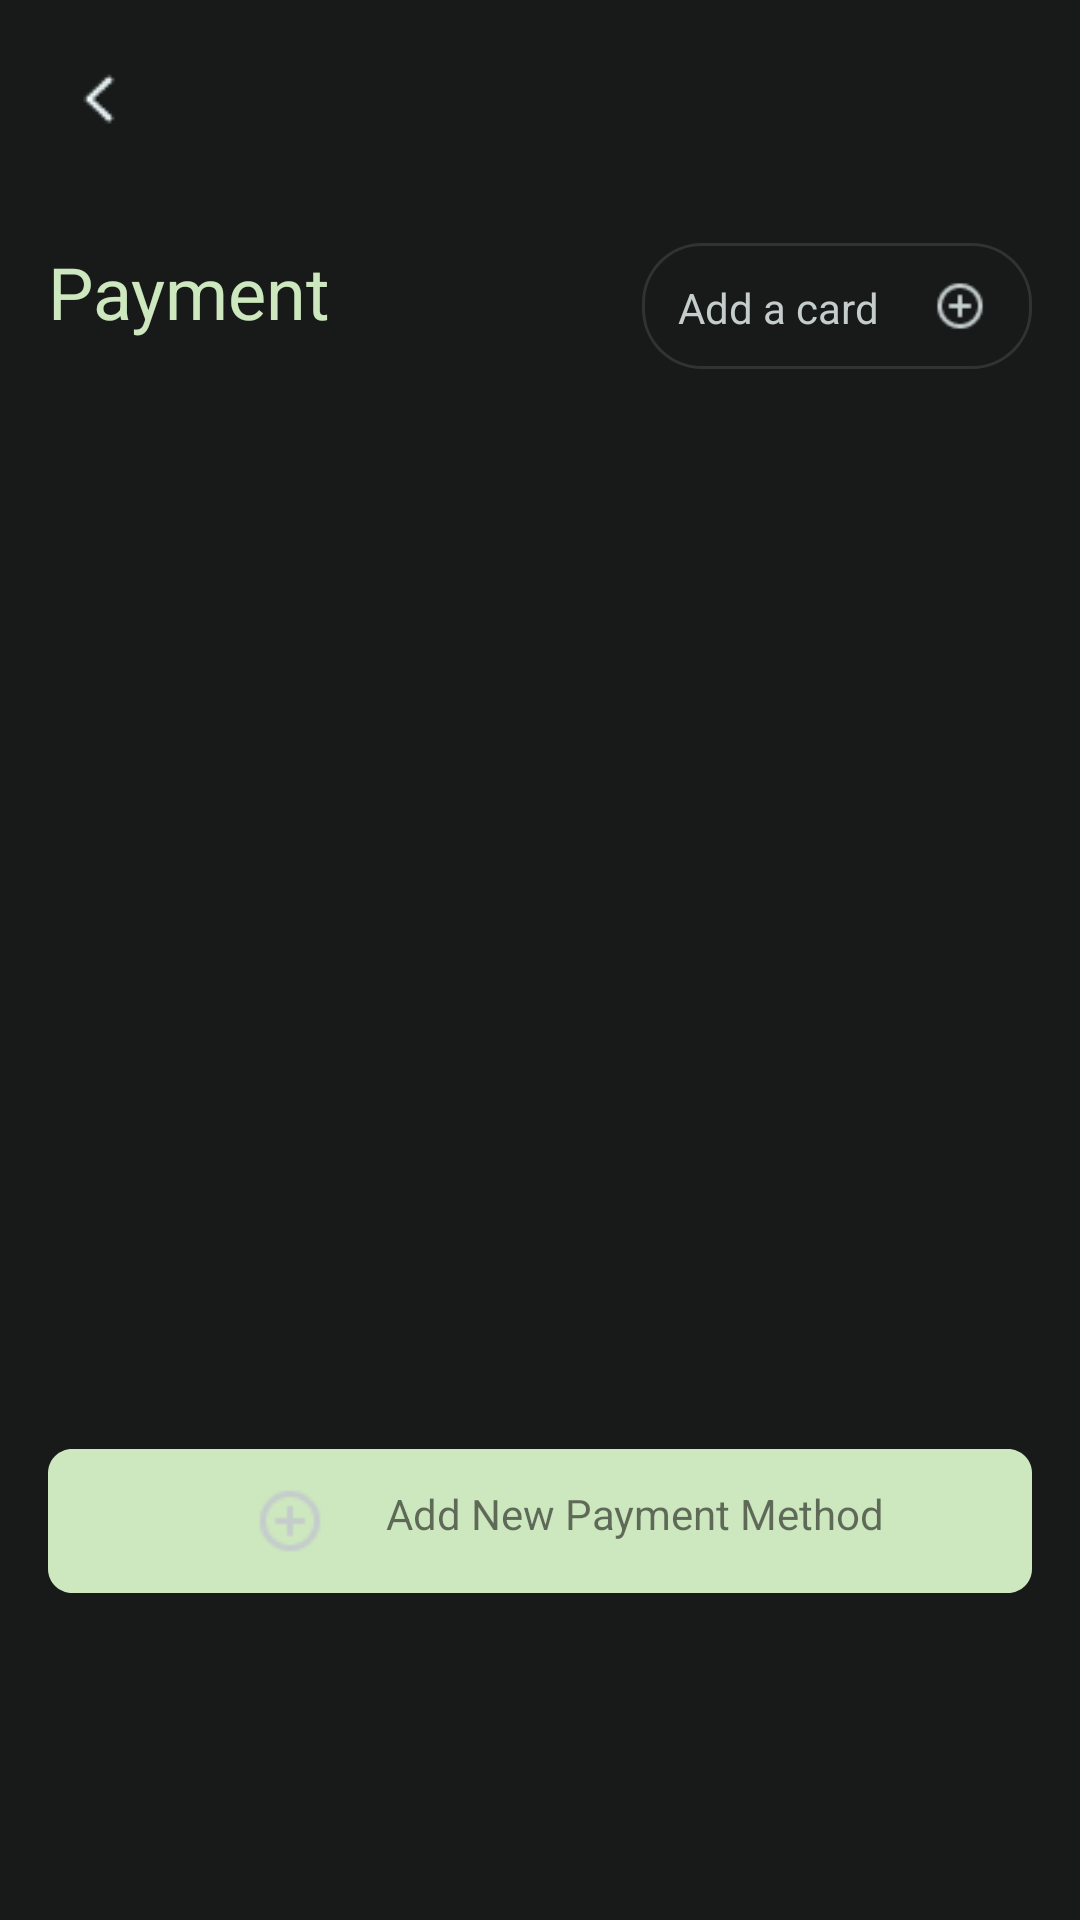

Locate icon controls on the screen. Image size 1080w x 1920h, boxes as (x1, y1, x2, y2).
back: (84, 75, 115, 124)
uil plus: (937, 283, 983, 329), (261, 1492, 319, 1550)
